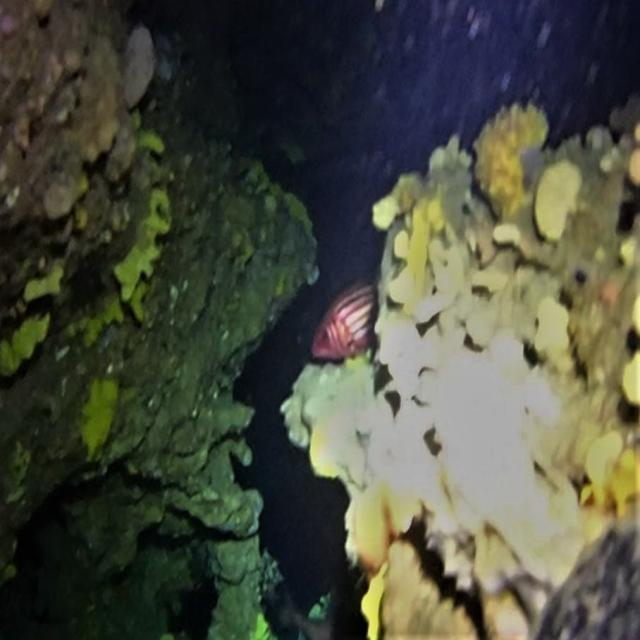Asker Baligi: (304, 282, 384, 368)
